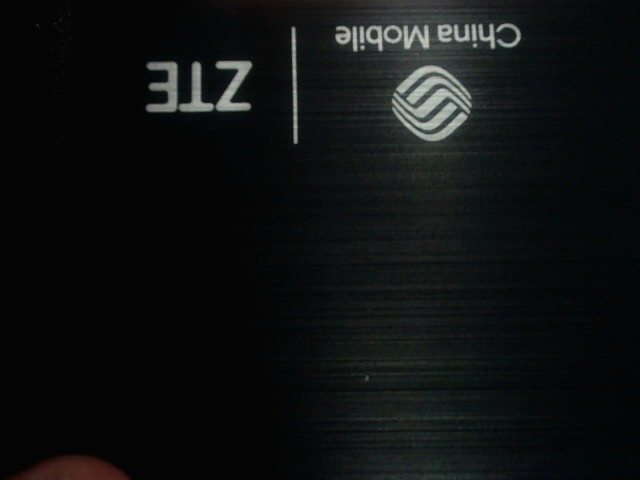AL_ZTEChinaMobile: (107, 12, 534, 157)
